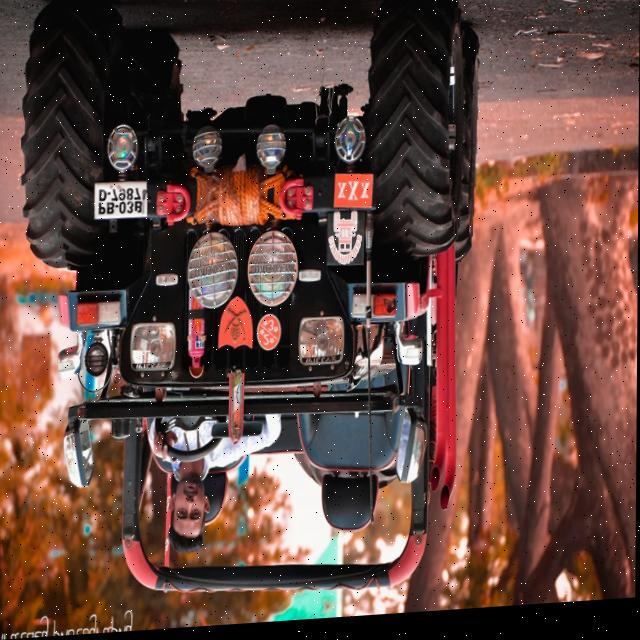plate: (93, 181, 148, 225)
